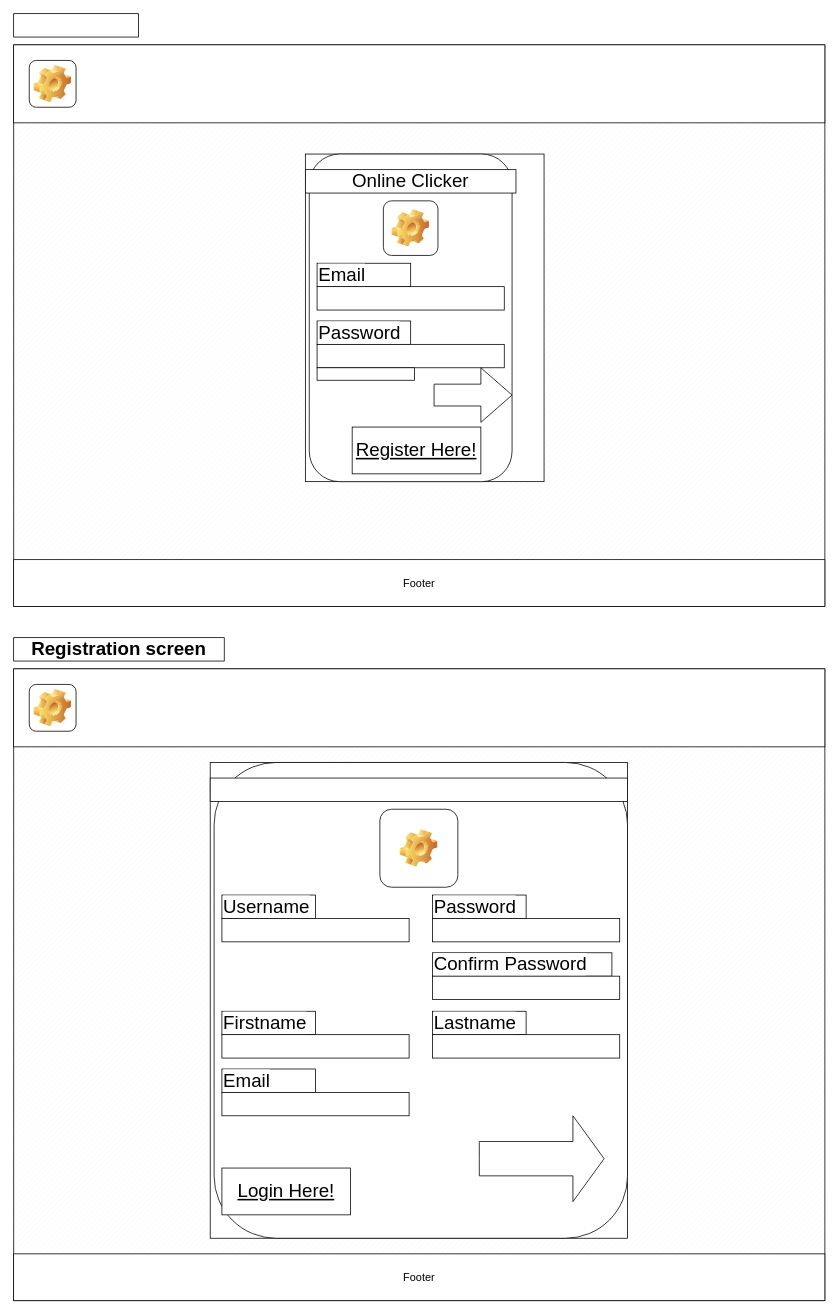
The diagram is 838 pixels wide and 1314 high, and some of its shapes have lost their labels. Each missing label, with the centre of its shape:
I forgot my password...: (365,373)
Login: (472,394)
Login screen: (75,25)
Online Clicker Registration: (418,789)
Register: (541,1158)
